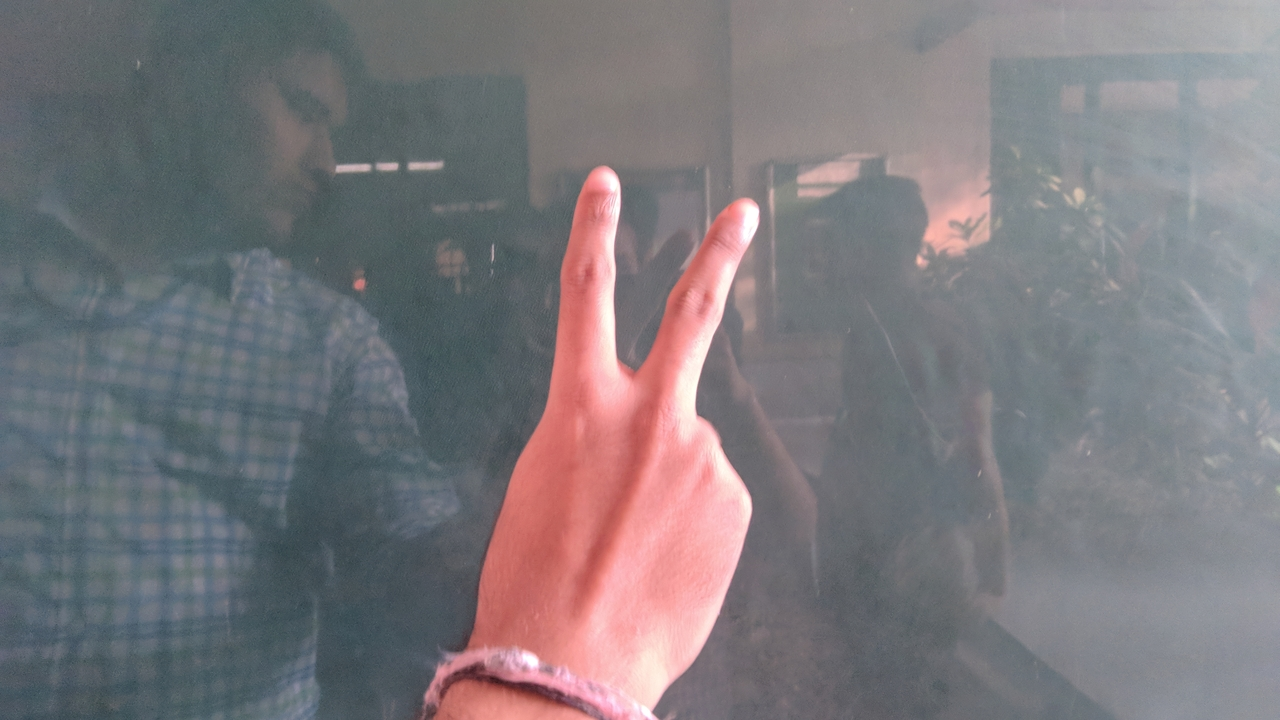fingertip: (708, 188, 772, 252), (566, 160, 626, 212)
